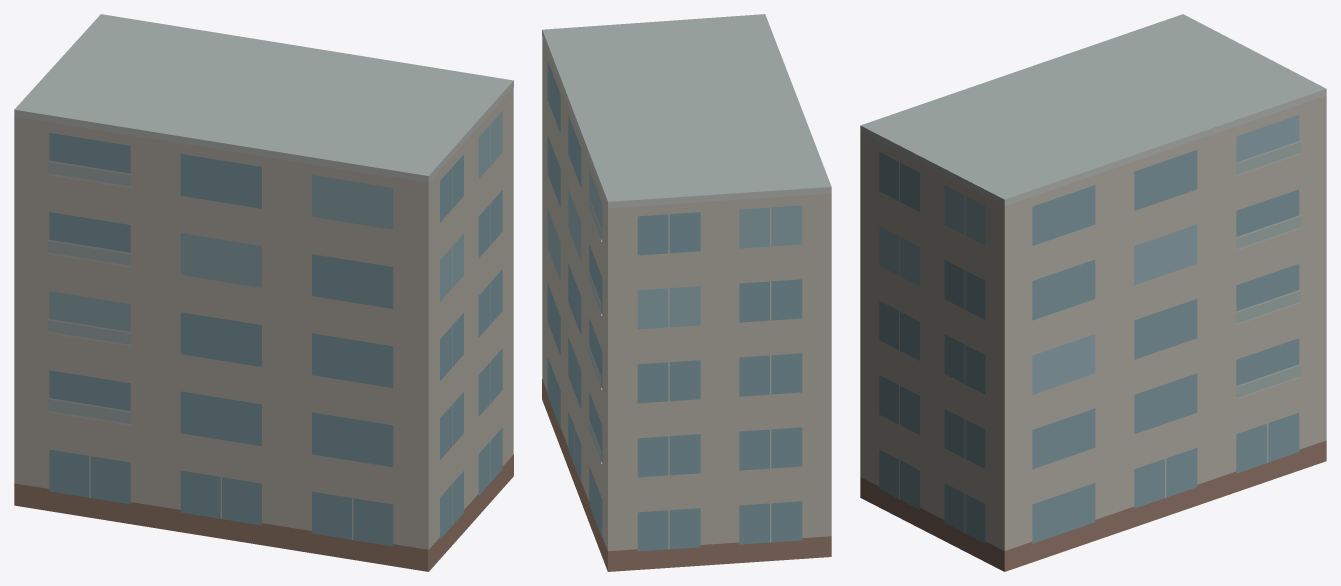
The model's file is survey-upis-32886714.glb.
The picture shows the model from 3 angles, left to right: view 1: azimuth 30°, elevation 25°; view 2: azimuth 150°, elevation 25°; view 3: azimuth 270°, elevation 25°; orthographic projection. The views are drawn at different scales.
Visible parts, largest first — view 1: survey-upis-32886714.tmp; view 2: survey-upis-32886714.tmp; view 3: survey-upis-32886714.tmp.
Part boxes in pixels (x1=…): survey-upis-32886714.tmp: x1=14, y1=14, x2=513, y2=571; survey-upis-32886714.tmp: x1=542, y1=14, x2=831, y2=571; survey-upis-32886714.tmp: x1=860, y1=14, x2=1326, y2=571.
Size of the model in its own units: 14.88 by 13.9 by 15.79.
